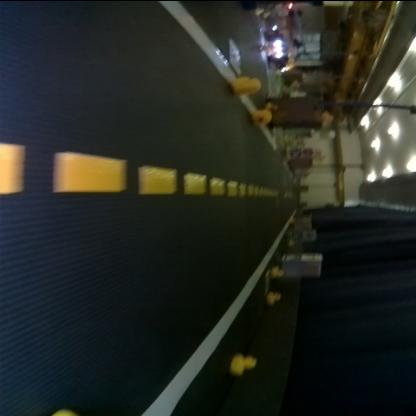Duckie: (233, 76, 262, 94), (230, 353, 258, 369), (253, 108, 272, 123), (268, 291, 282, 303), (272, 264, 284, 276), (324, 110, 332, 122)
Duckiebot: (270, 30, 288, 68)
QR code: (230, 39, 242, 70)
